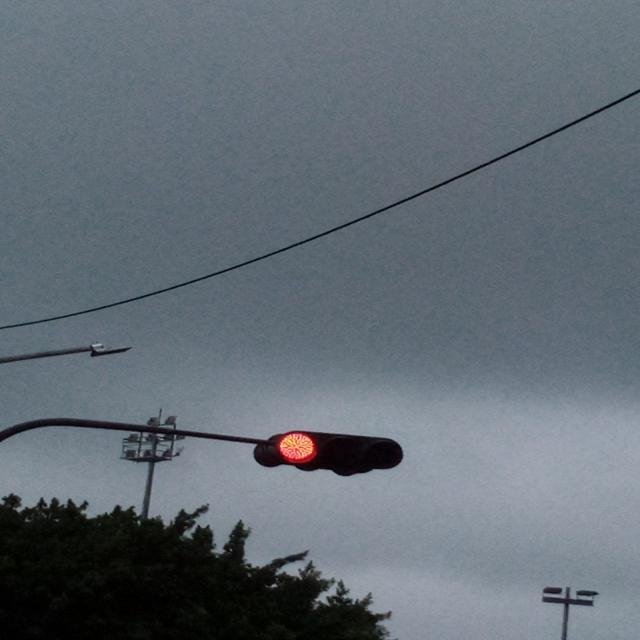red light: (260, 432, 406, 473)
